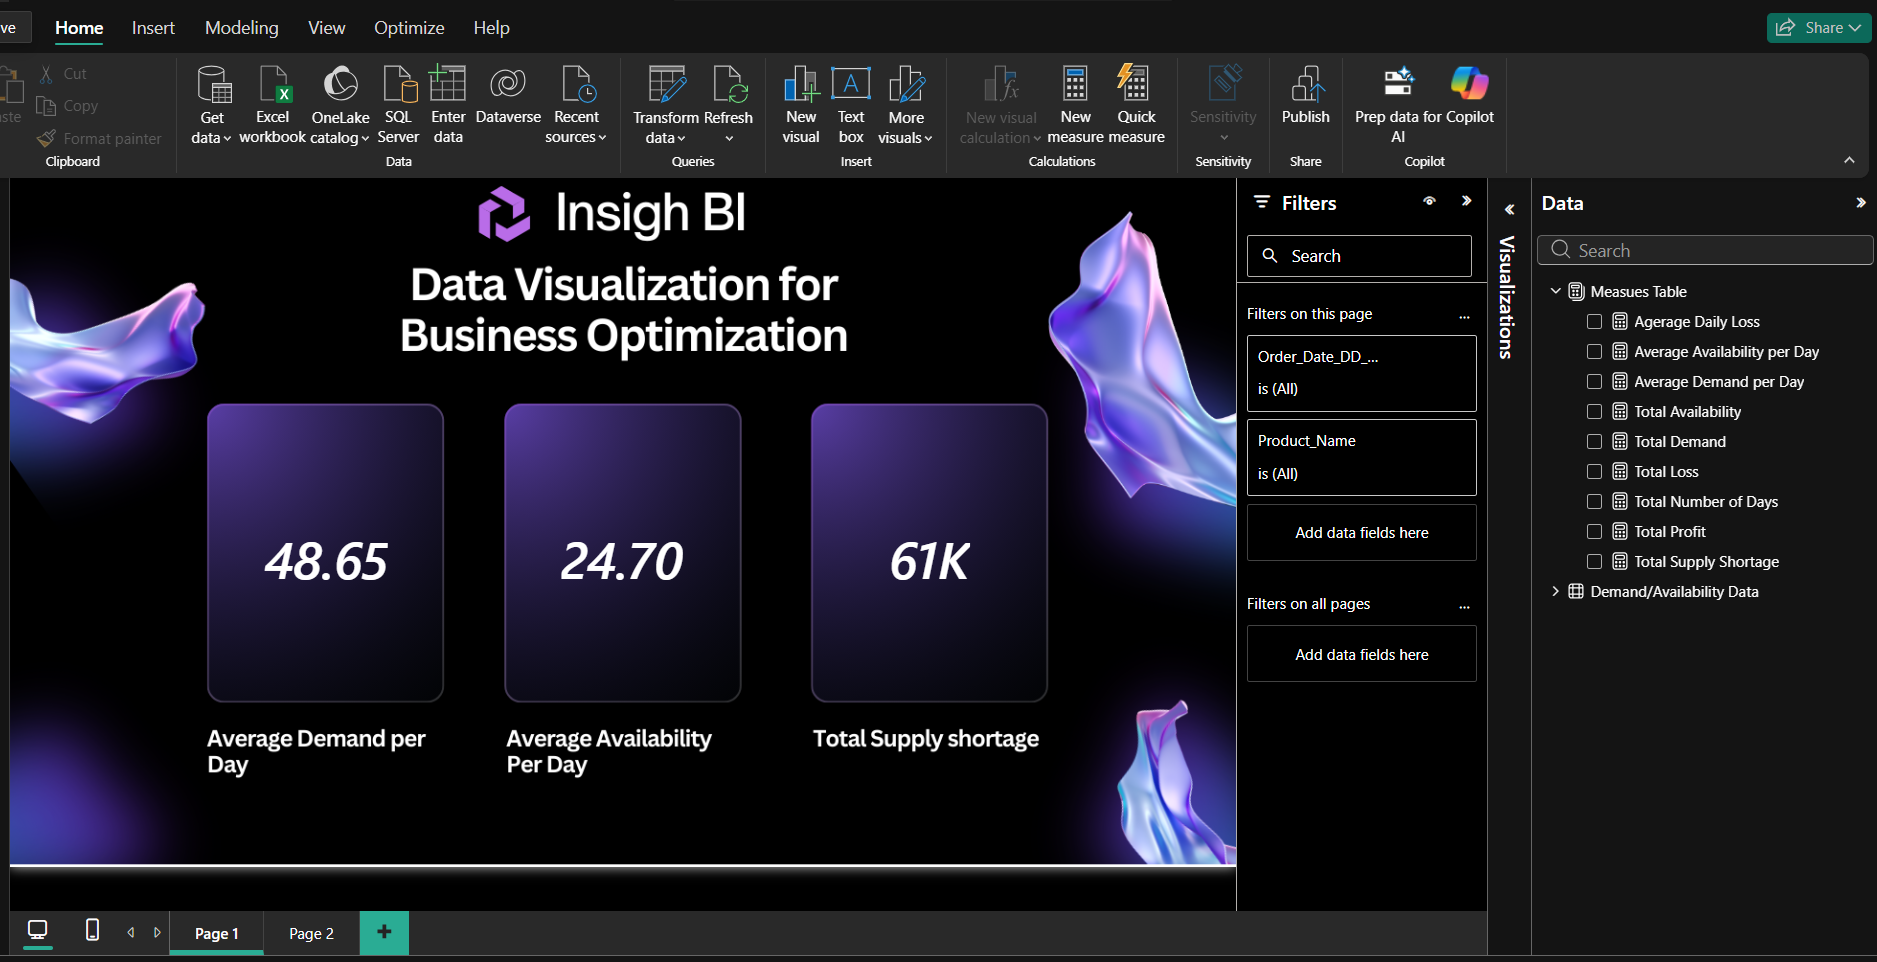

The dashboard page shown, as its layout file describes it:
{"tool":"powerbi","page":{"name":"Page 1","canvas":[1280,720],"ordinal":0},"visuals":[{"type":"cardVisual","fields":{"Data":["Measues Table.Average Demand per Day"]},"box":[209.2,260.5,242.1,269.7],"z":0},{"type":"cardVisual","fields":{"Data":["Measues Table.Average Availability per Day"]},"box":[518.4,260.5,242.1,269.7],"z":1000},{"type":"cardVisual","fields":{"Data":["Measues Table.Total Supply Shortage"]},"box":[839.5,260.5,242.1,269.7],"z":2000}]}

Visuals, with their boxes on the page's 1280x720 design canvas (x1, y1, x2, y2). These are canvas units, not pixel positions in the 1877x962 screenshot, which may show the page scaled, cropped or inside an application window:
cardVisual - Measues Table.Average Demand per Day: 209 260 451 530
cardVisual - Measues Table.Average Availability per Day: 518 260 760 530
cardVisual - Measues Table.Total Supply Shortage: 840 260 1082 530
